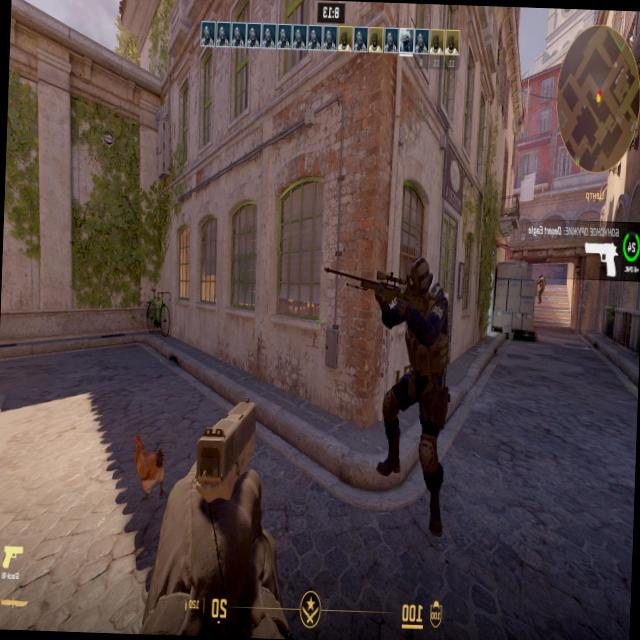CT: (386, 260, 448, 467), (538, 272, 547, 300)
CT_heat: (409, 260, 423, 294), (540, 272, 543, 280)
